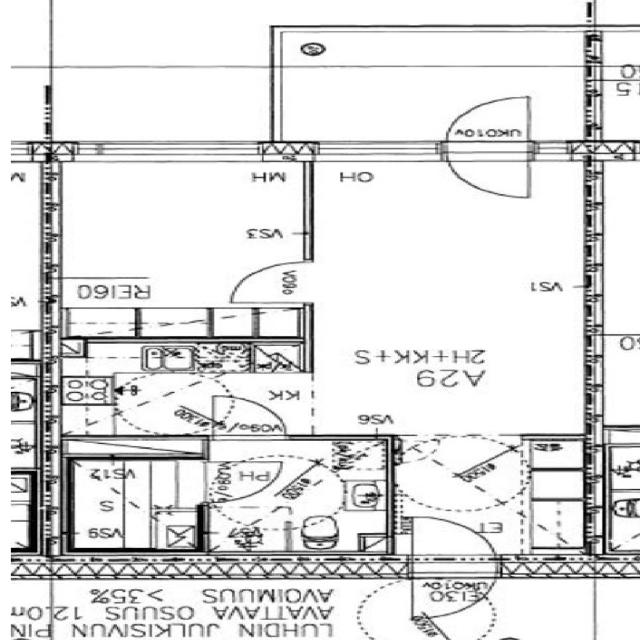door: (403, 562, 502, 622), (444, 143, 538, 203), (446, 94, 534, 144), (407, 516, 496, 563), (219, 258, 308, 304), (212, 396, 290, 439)
window: (66, 136, 264, 164), (306, 135, 447, 162), (220, 574, 270, 584)
zone: (304, 151, 594, 439), (46, 158, 306, 339), (51, 337, 312, 436), (388, 438, 582, 556), (203, 439, 390, 553), (62, 458, 200, 552), (582, 30, 640, 146)
